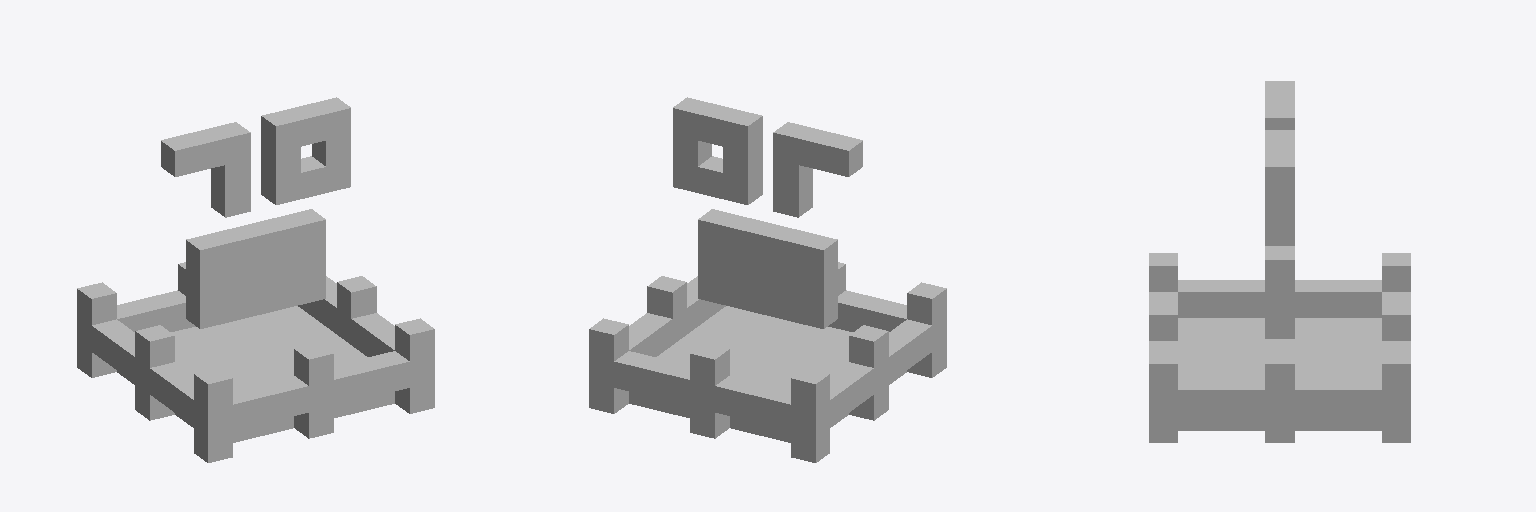
File: Locked 70.obj
The picture shows the model from 3 angles: view 1: azimuth 30°, elevation 25°; view 2: azimuth 150°, elevation 25°; view 3: azimuth 270°, elevation 25°; orthographic projection.
Visible parts, largest first — view 1: object 1; view 2: object 1; view 3: object 1.
Part boxes in pixels (x1,y1,x2,y2): object 1: (77,97,434,462); object 1: (589,97,946,462); object 1: (1149,81,1410,442).
Size of the model in its own units: 0.9 by 1 by 0.9.